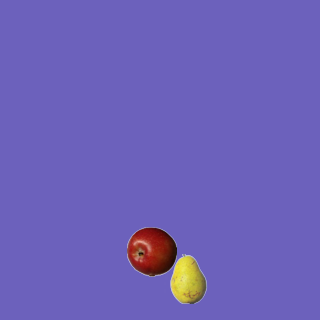Apple Braeburn: (126, 226, 176, 276)
Pear Monster: (163, 253, 213, 303)
